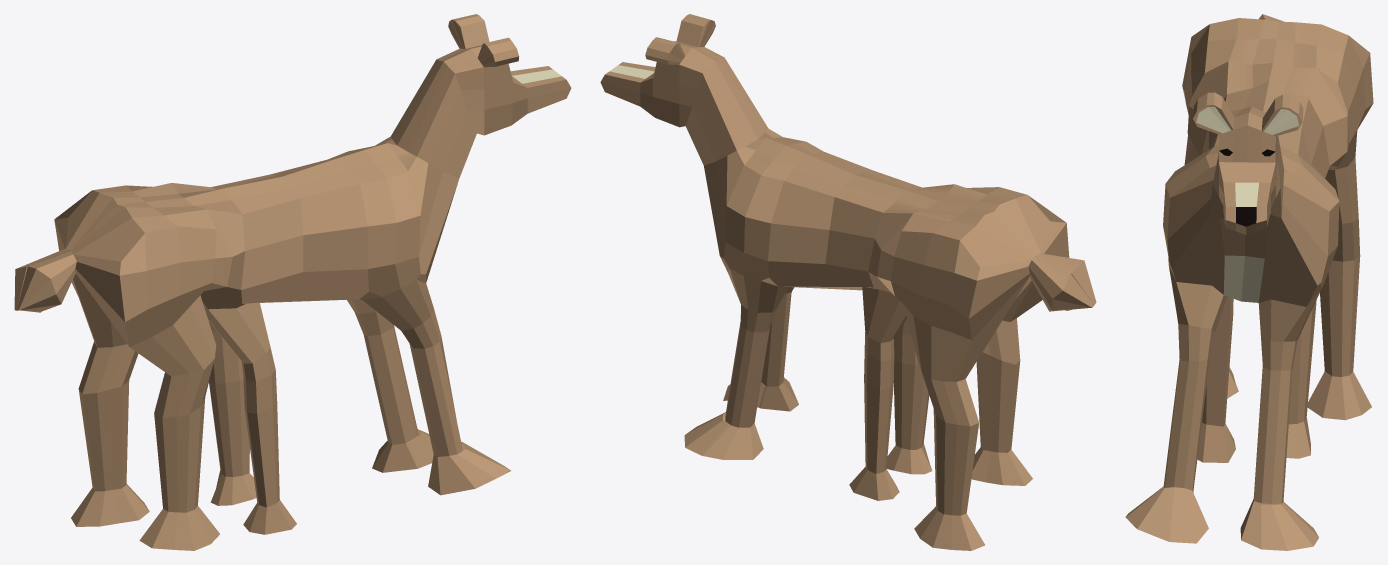
File: mutated animals.fbx
3 views of the same model, side by side, from view 1: azimuth 30°, elevation 25°; view 2: azimuth 150°, elevation 25°; view 3: azimuth 270°, elevation 25° (orthographic). The views are drawn at different scales.
Visible parts, largest first — view 1: deer; view 2: deer; view 3: deer.
Boxes of the visible parts, bbox=[...] form: deer: bbox=[14, 14, 571, 550]; deer: bbox=[600, 14, 1096, 550]; deer: bbox=[1125, 14, 1373, 550].
Size of the model in its own units: 787 by 610 by 284.
